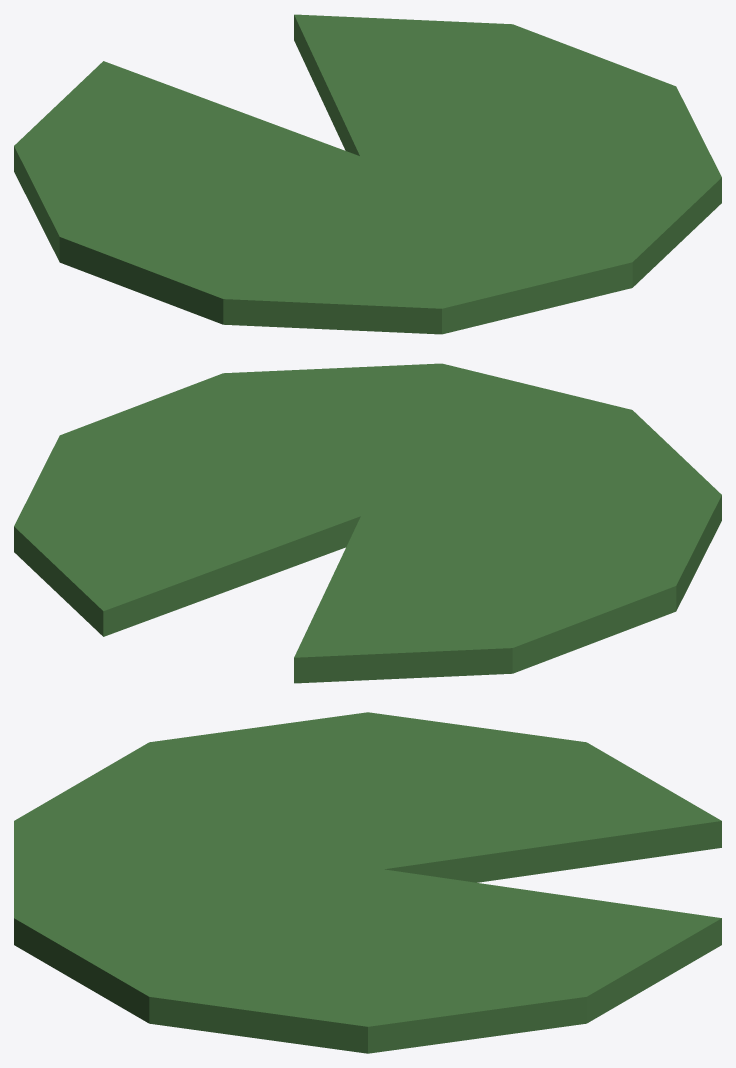
Rendered from Lilypad.fbx.
3 views of the same model, one above another, from view 1: azimuth 30°, elevation 25°; view 2: azimuth 150°, elevation 25°; view 3: azimuth 270°, elevation 25° (orthographic). The views are drawn at different scales.
Visible parts, largest first — view 1: LilyPad; view 2: LilyPad; view 3: LilyPad.
Boxes of the visible parts, x1,y1,x2,y2 form: LilyPad: (14,14,721,334); LilyPad: (14,363,721,683); LilyPad: (14,712,721,1053).
Bounding box in the file's own units: 1.35 × 0.0538 × 1.28.
